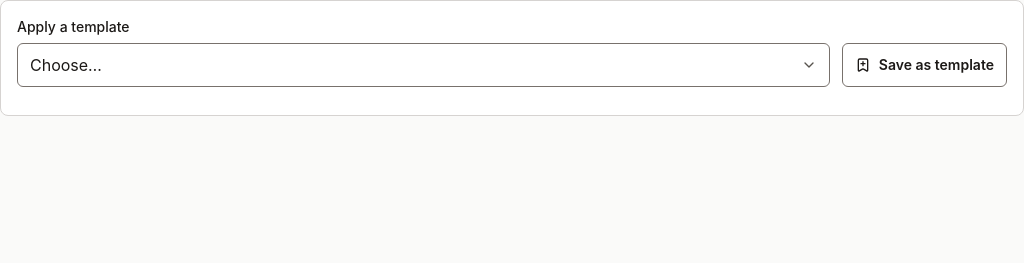
TemplateBar › applies a picked template and saves the current design
The width and height of the screenshot is (1024, 263).
Select "Café" in the dropdown named "Café": (423, 65) [17,43,830,87]
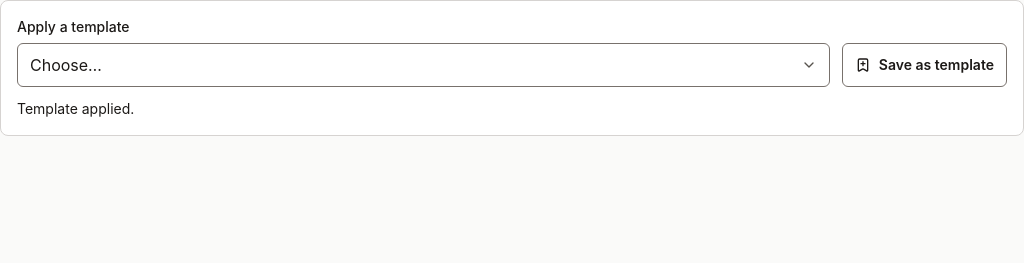
Result: the text "Template applied." is shown at [17,100,134,117]
Click the button "Save as template": (924, 65) [842,43,1007,87]
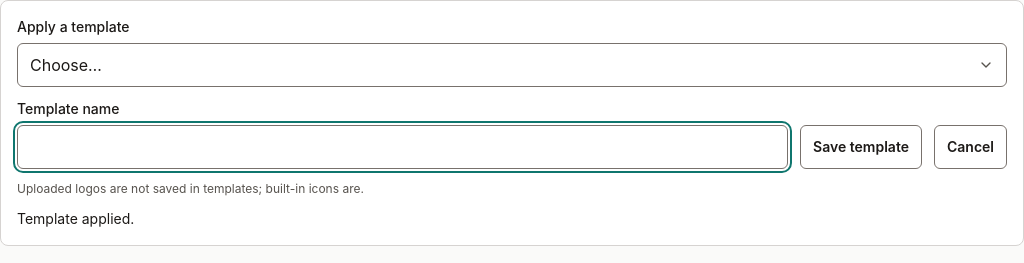
In the field labelled "Template name": (403, 147) [17,125,788,169], type "Mine"
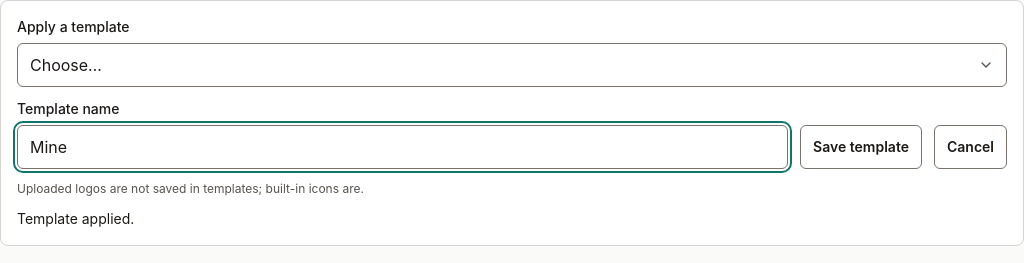
Click the button "Save template": (861, 147) [800,125,922,169]
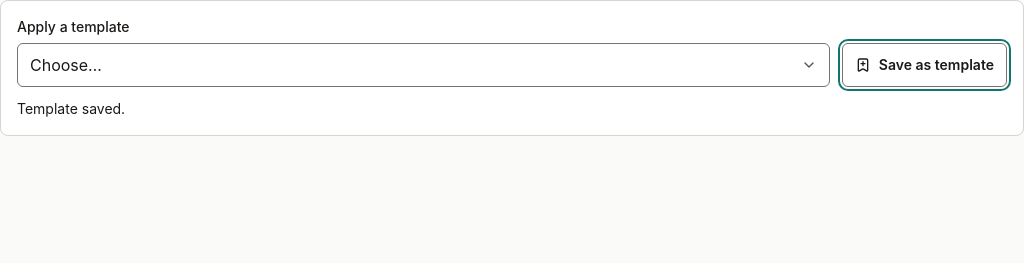
Result: the text "Template saved." is shown at [17,100,125,117]
